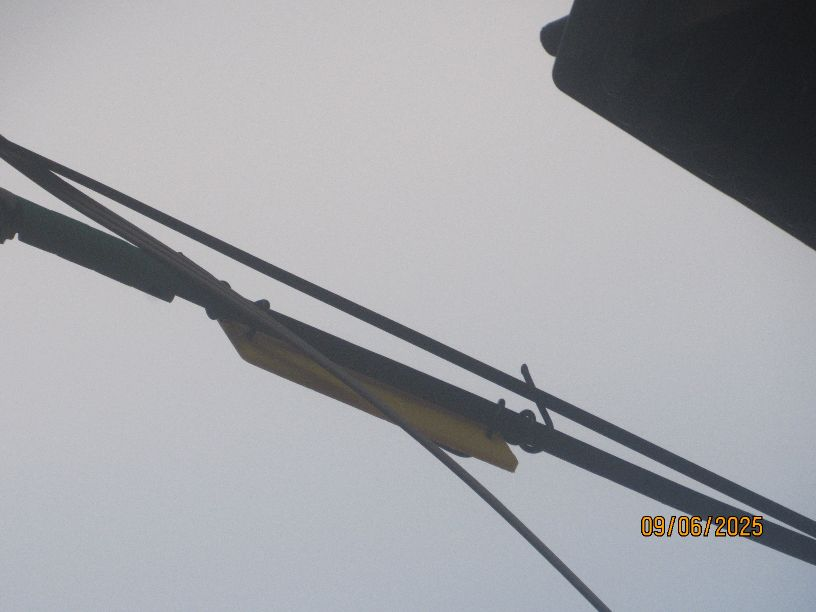fibra_optica: (254, 219, 611, 412)
